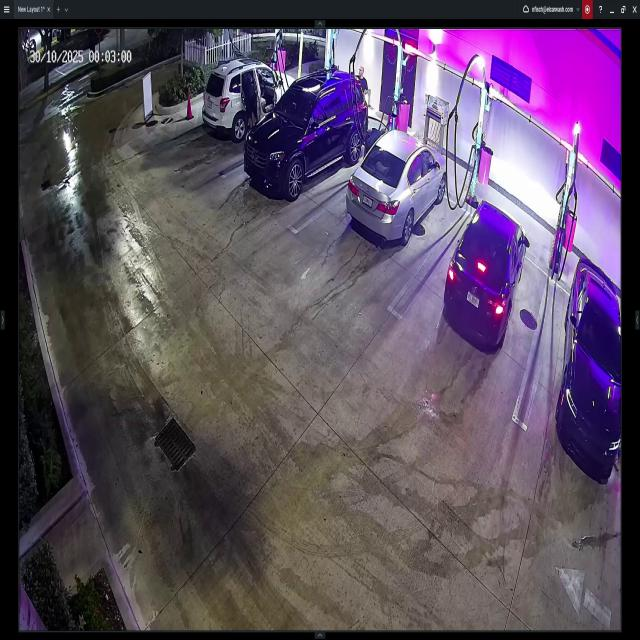Car: (245, 71, 368, 202), (556, 259, 621, 476), (444, 198, 529, 348), (346, 133, 448, 243), (203, 60, 298, 142)
